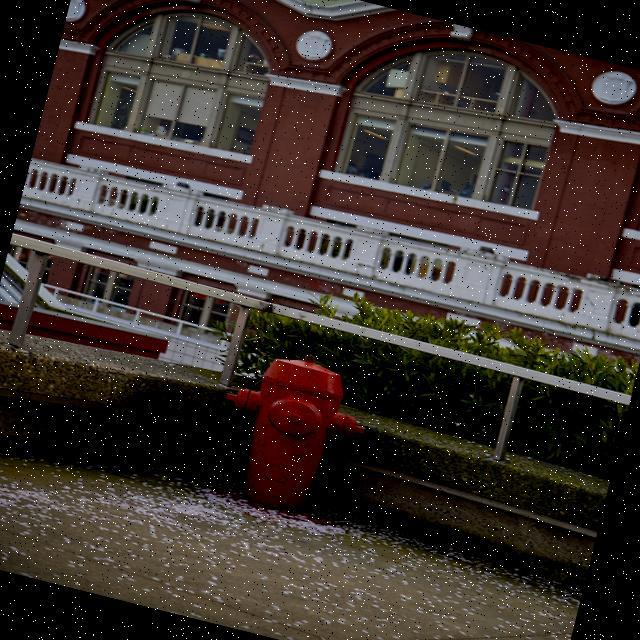fire_hydrant: (202, 335, 379, 525)
